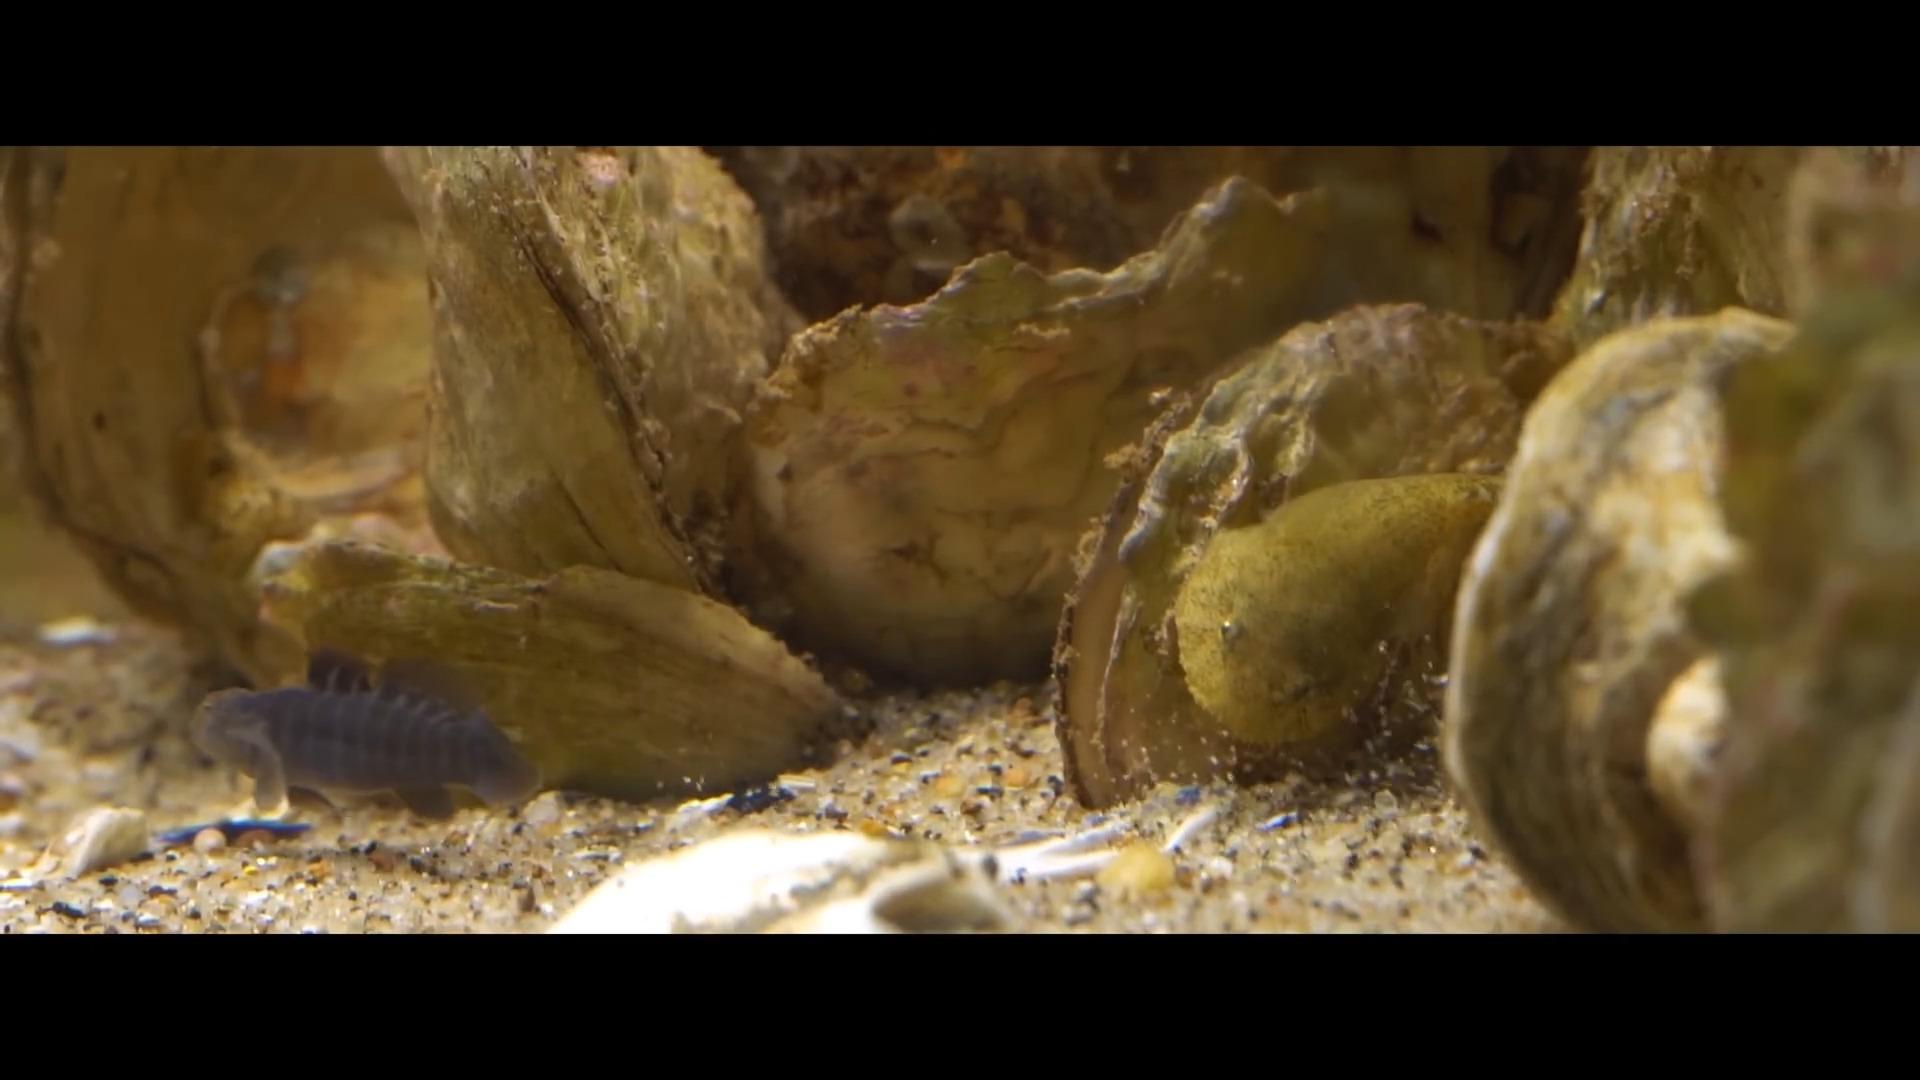Oyster: (731, 179, 1408, 682), (1444, 309, 1858, 936), (5, 152, 431, 683), (402, 144, 786, 603), (1048, 158, 1559, 396)
